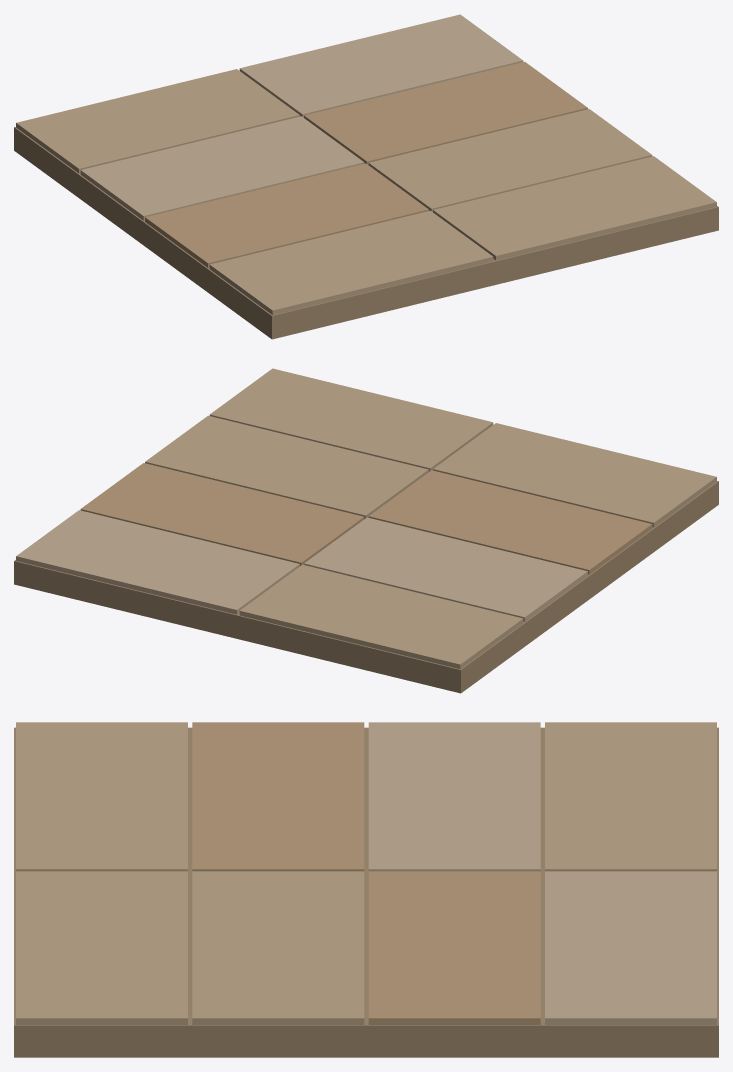
The model's file is floor_tile_2m.glb.
3 renders of one model, top to bottom at view 1: azimuth 30°, elevation 25°; view 2: azimuth 150°, elevation 25°; view 3: azimuth 270°, elevation 25°, orthographic. The views are drawn at different scales.
Visible parts, largest first — view 1: floor_tile_2m; view 2: floor_tile_2m; view 3: floor_tile_2m.
Boxes of the visible parts, x1,y1,x2,y2 form: floor_tile_2m: (14, 14, 718, 339); floor_tile_2m: (14, 368, 718, 693); floor_tile_2m: (14, 722, 718, 1057).
Bounding box in the file's own units: 2 × 0.12 × 2.
